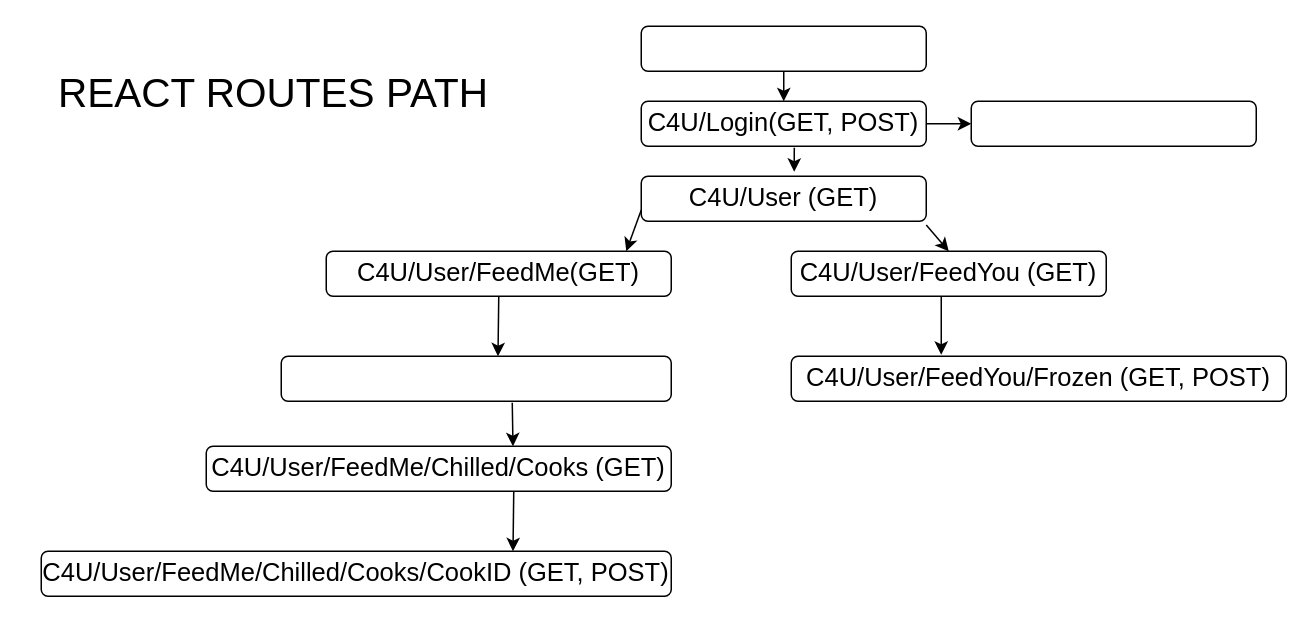
Some shapes in this 1313 by 623 pixel diagram are drawn without their labels. The shapes that lost their labels are listed below. From the top down, each one's box as (x1, y1, x2, y2) in pixels, then its label:
(640, 25, 926, 71): C4U/Home(GET)
(970, 100, 1256, 146): Register(POST)
(280, 355, 671, 401): C4U/User/FeedMe/Chilled(GET)
